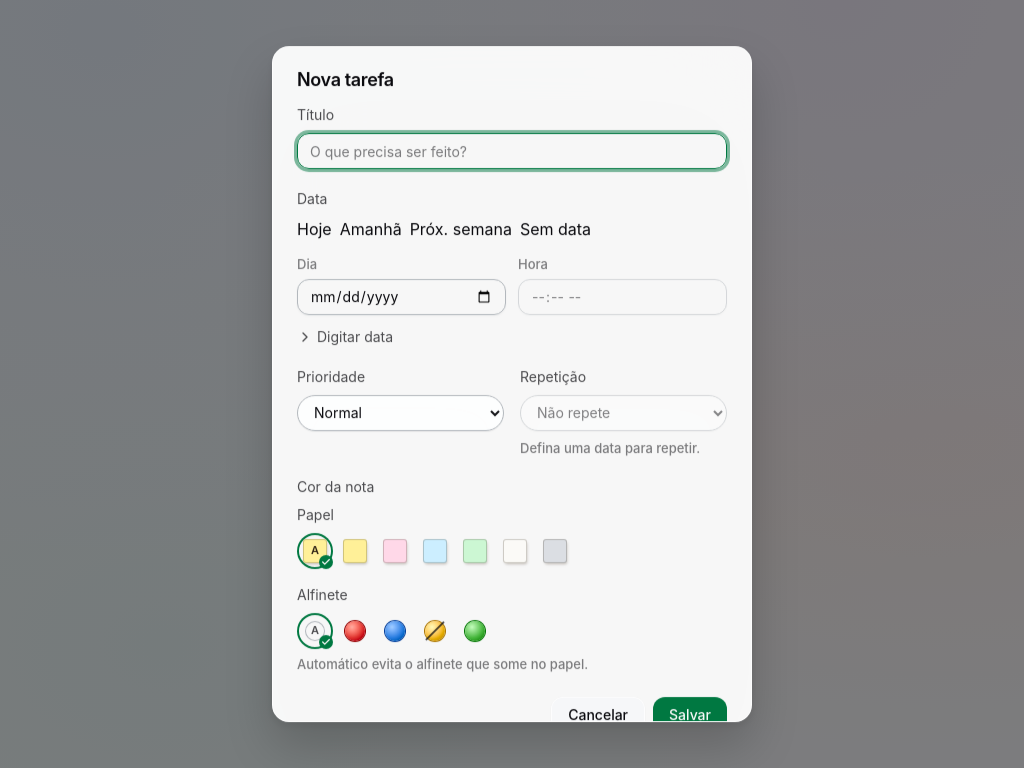
Test case: closing with unsaved changes › asks before an outside click discards what was typed
The image size is (1024, 768).
Type "Rascunho" into the field labelled "Título". click: x=512, y=151
box: [297, 133, 727, 169]
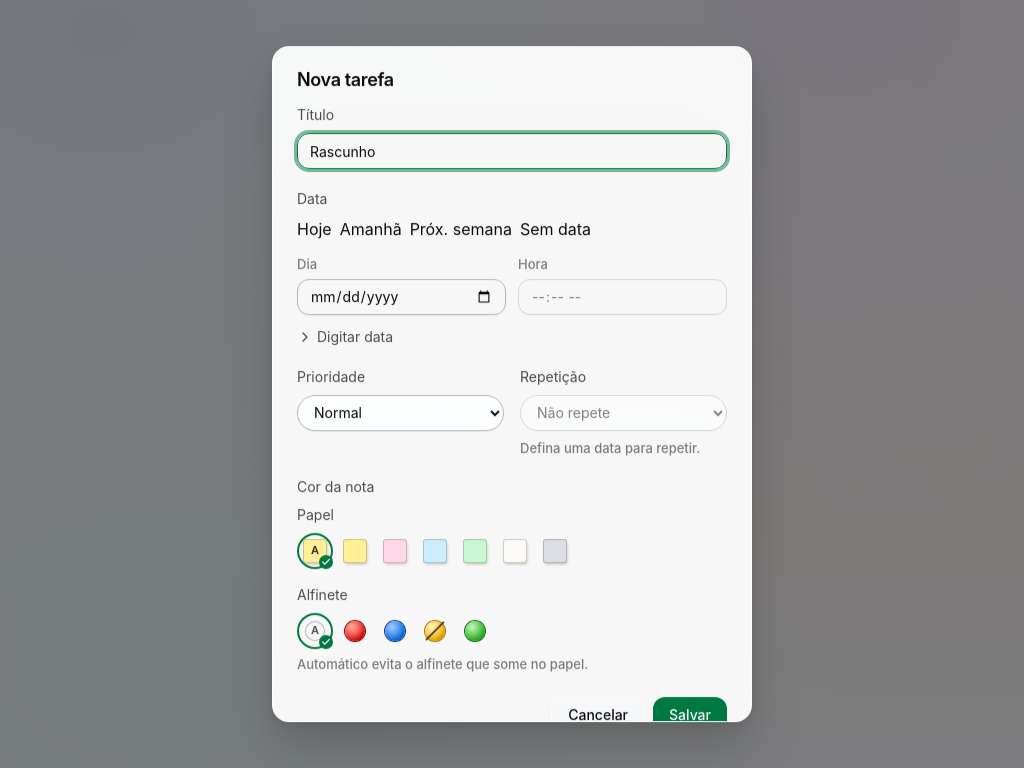
Press Escape in the dialog "Nova tarefa", box [272, 46, 752, 722]
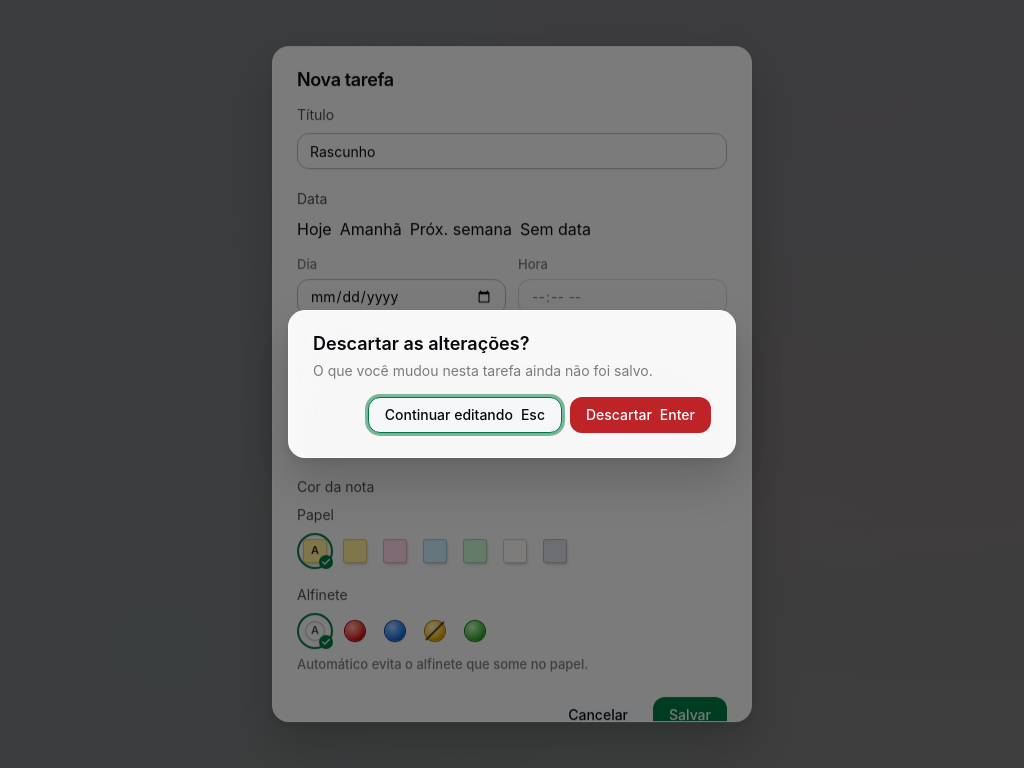
Click the button "Continuar editando Esc". click: x=465, y=415
box: [368, 397, 562, 433]
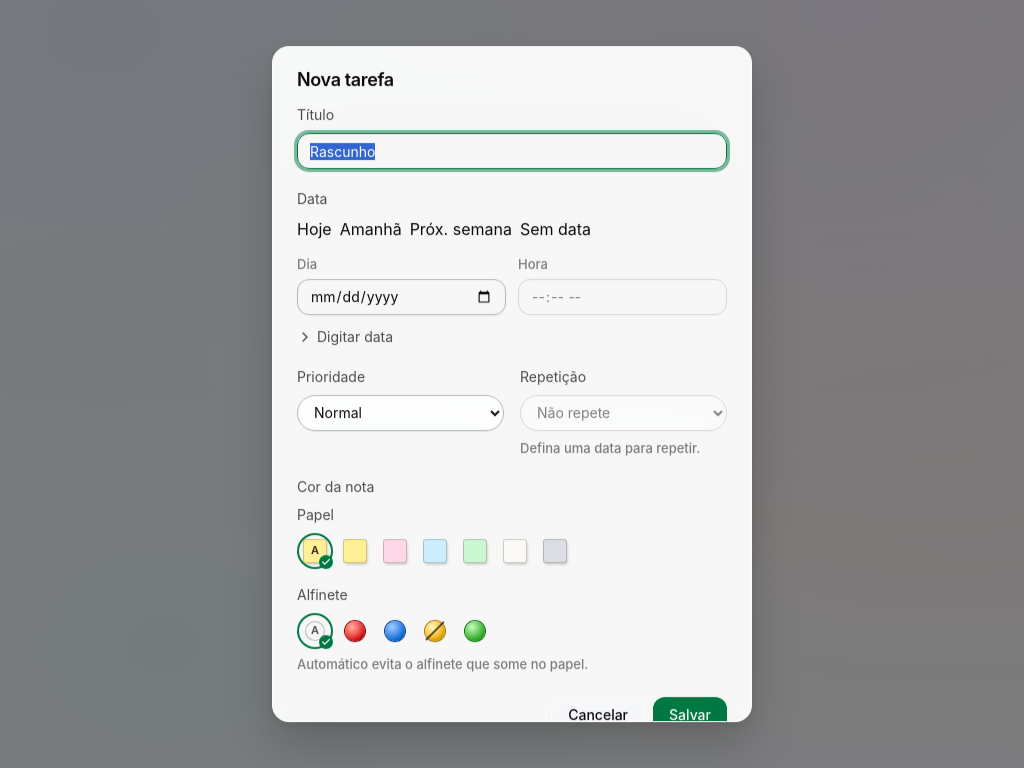
Result: the heading "Descartar as alterações?" is gone
